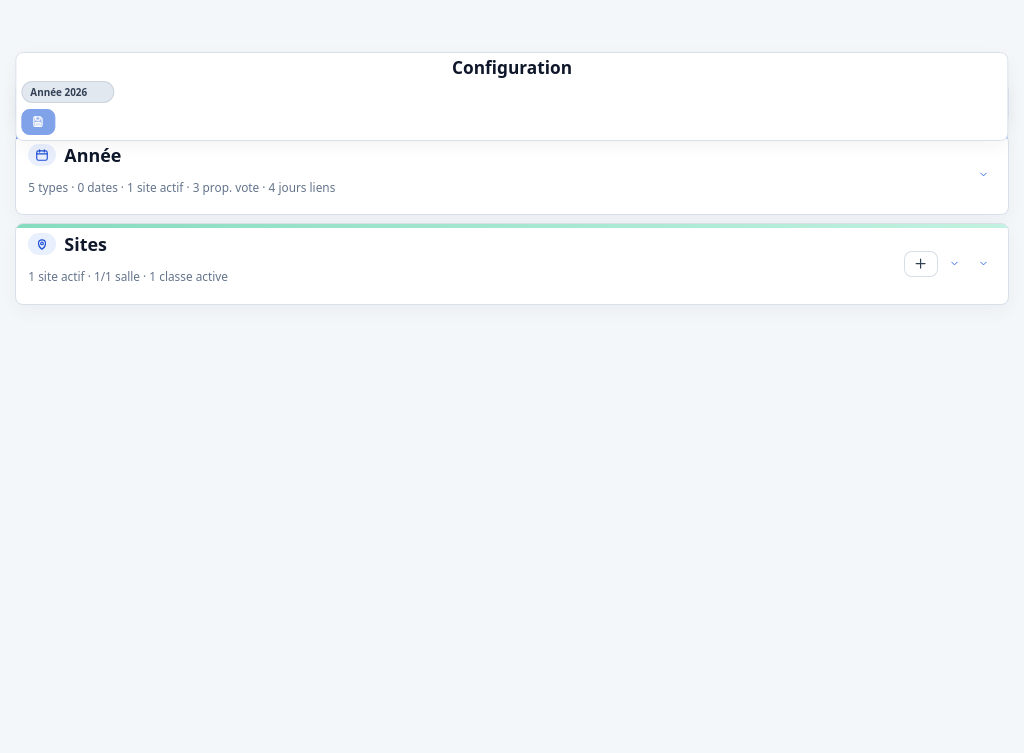
Scenario: PlanningConfiguration › supprime un type custom sans supprimer les autres types
Click the button named "Ouvrir le bloc année".
click(984, 175)  # box [972,163,996,187]
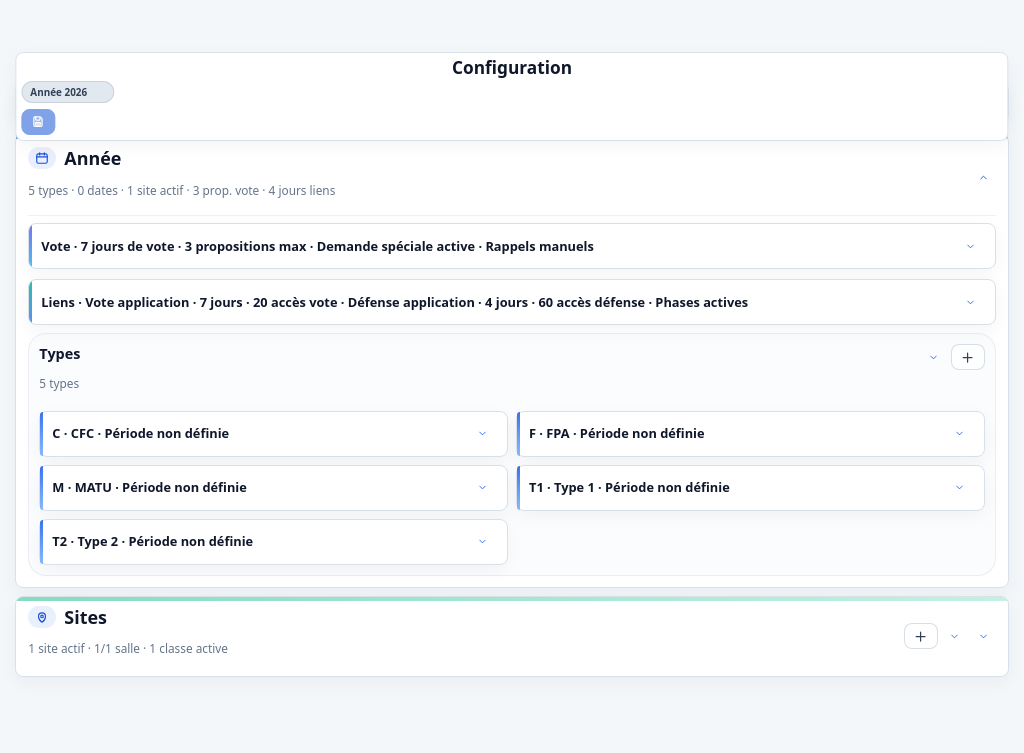
Click the button named "Ouvrir le type Type 1".
click(960, 488)  # box [948,476,972,500]
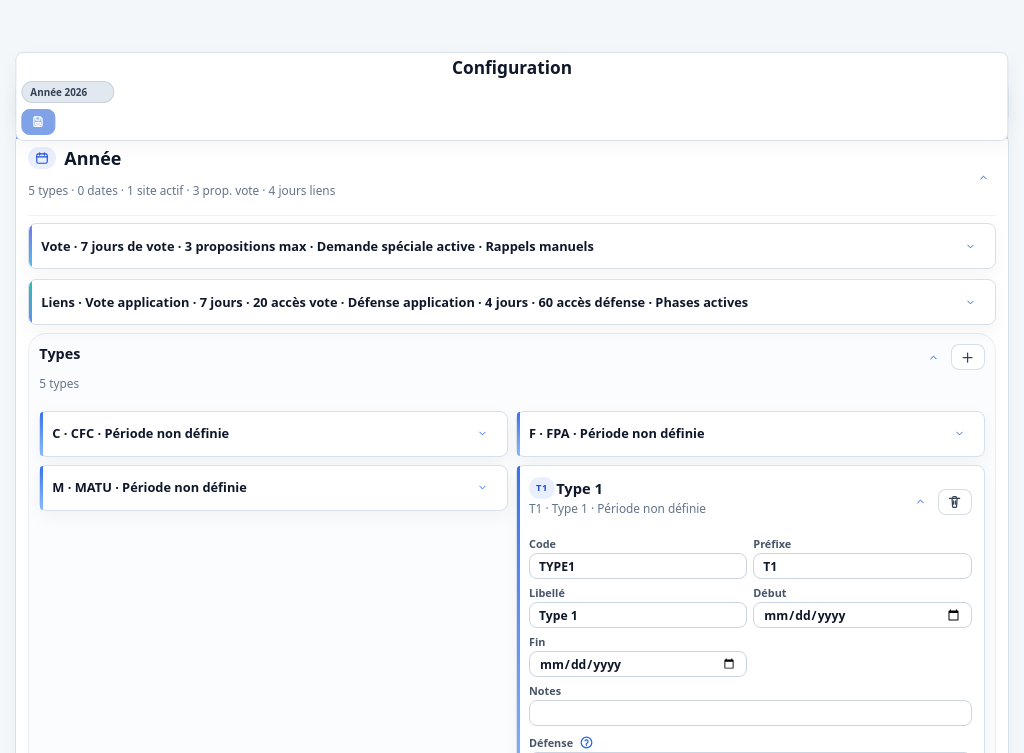
Click the button named "Supprimer".
click(955, 502)  # box [938,489,972,515]
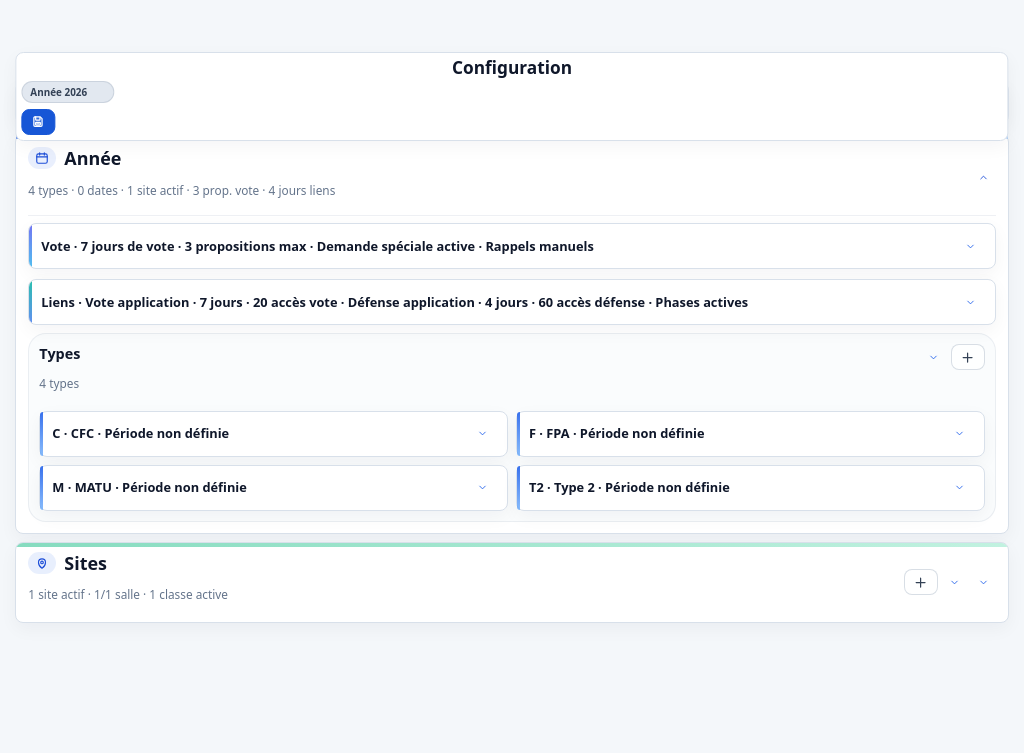
expect the text "T2 · Type 2 · Période non définie" is shown: met, box [529,478,730,496]
expect the text "C · CFC · Période non définie" is shown: met, box [52,424,229,442]
expect the heading "Type 1" is gone: met
